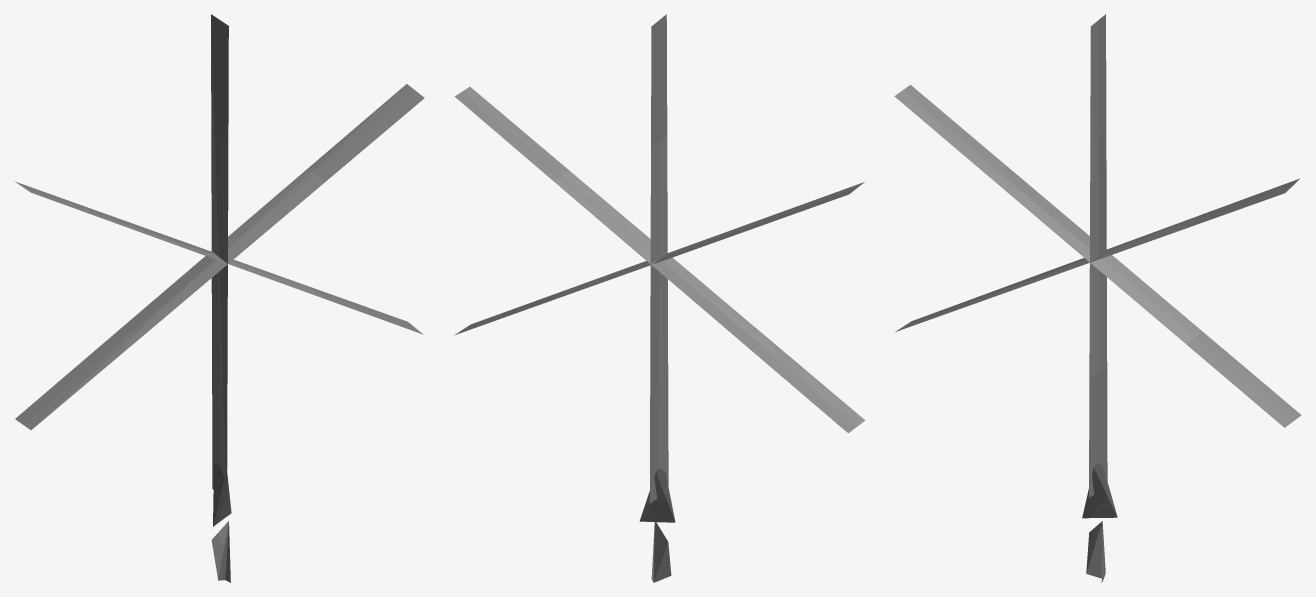
Rendered from zcb004-geode.glb.
The picture shows the model from 3 angles, left to right: view 1: azimuth 30°, elevation 25°; view 2: azimuth 150°, elevation 25°; view 3: azimuth 330°, elevation 25°; orthographic projection.
Visible parts, largest first — view 1: Node; view 2: Node; view 3: Node.
Boxes of the visible parts, x1,y1,x2,y2 form: Node: (15,14,424,582); Node: (454,14,865,582); Node: (894,14,1301,582).
Size of the model in its own units: 1.67 by 2.27 by 0.1221.
1 material, 1 textured.
